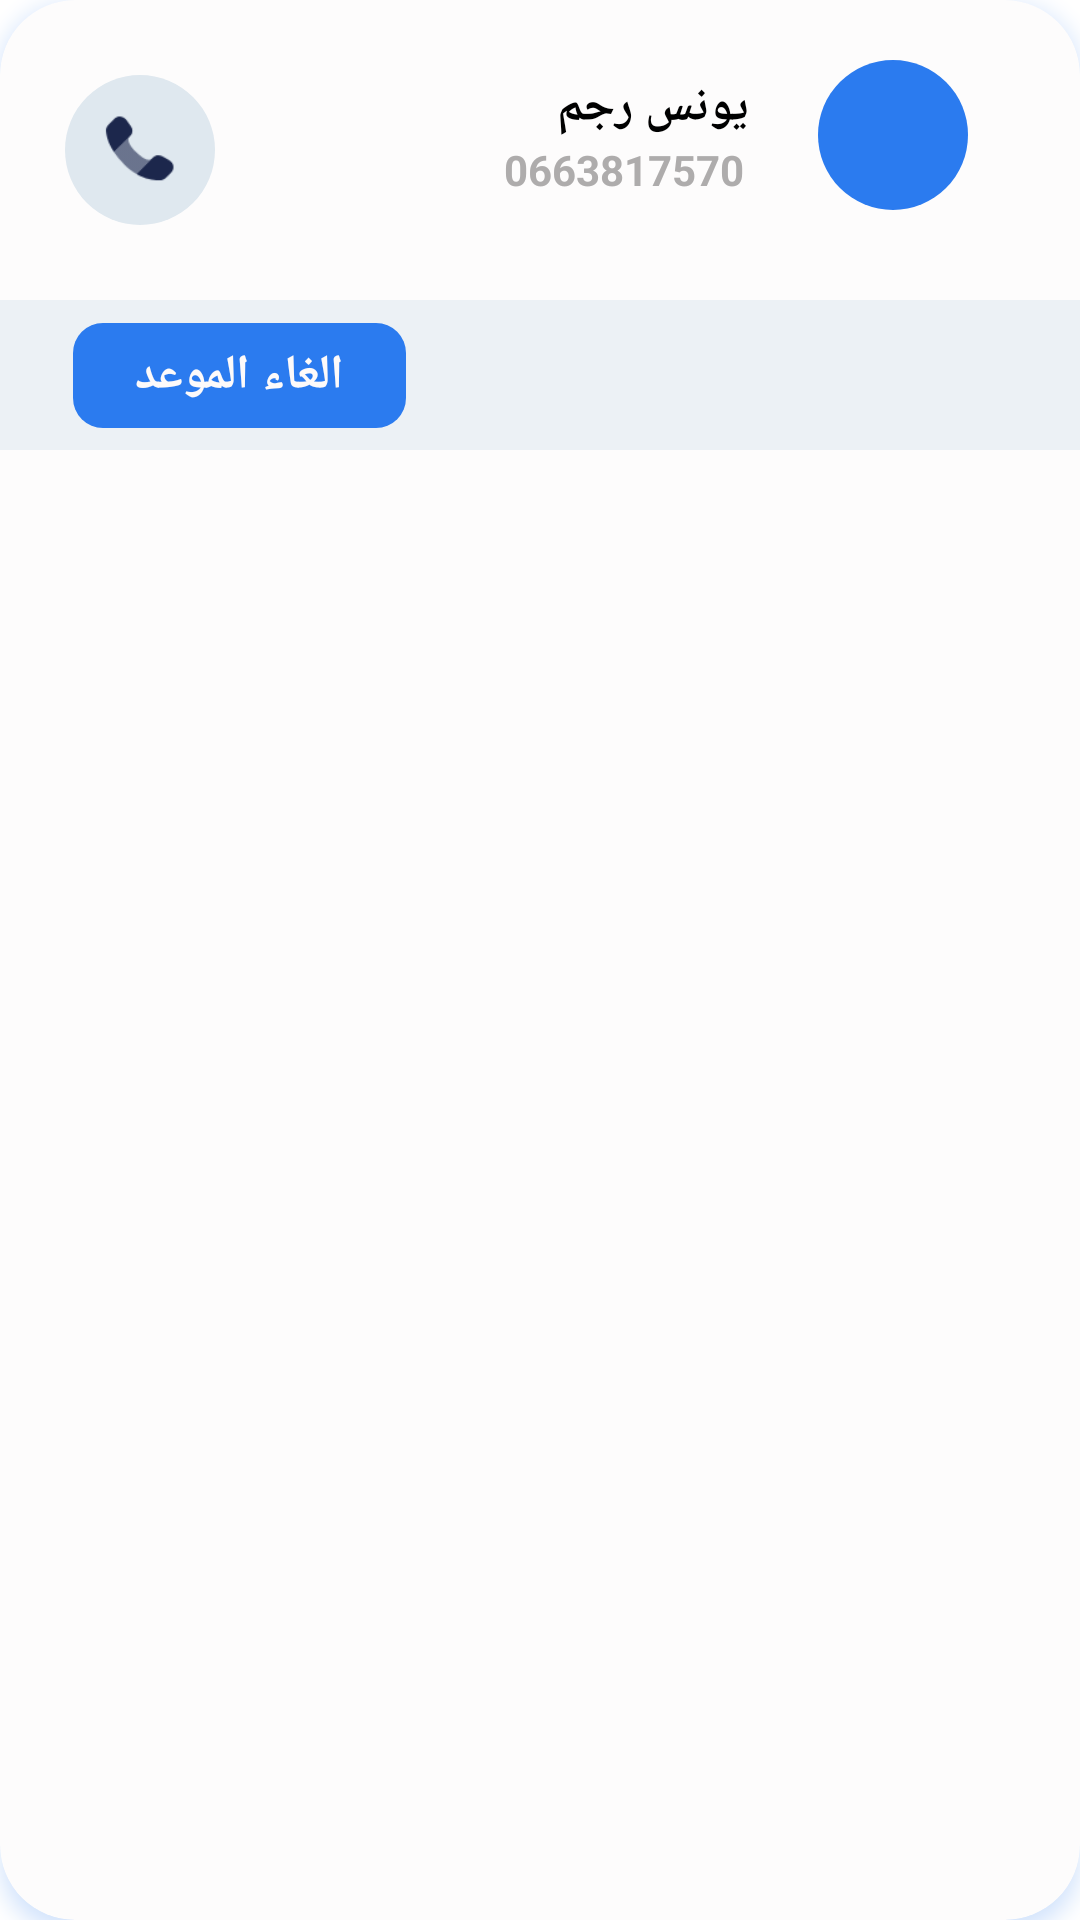

Screen size 1080x1920. Icon name, then its box in pixels as (x1, y1, x2, y2):
phone: (106, 116, 174, 181)
